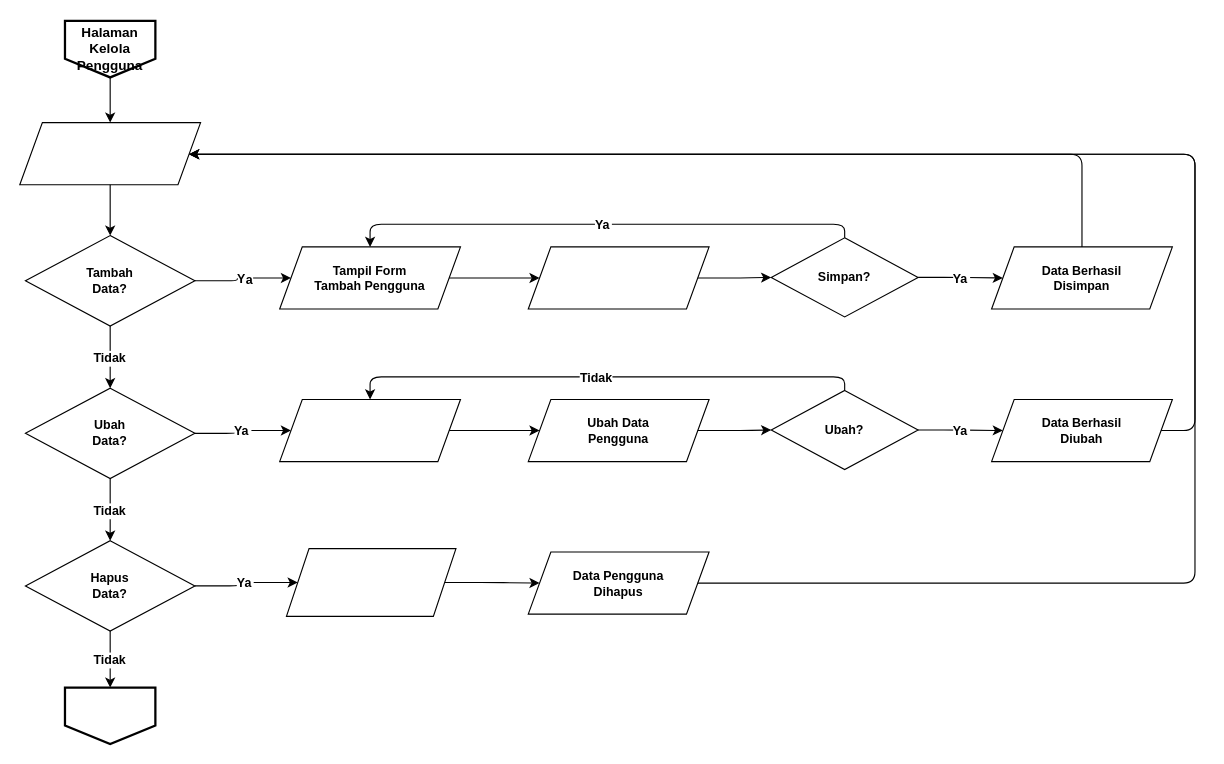
Some shapes in this 1224 by 764 pixel diagram are drawn without their labels. The shapes that lost their labels are listed below. From the top down, each one's box as (x1, y1, x2, y2) in pixels, then its label:
(19, 121, 201, 185): Tampil Data Pengguna
(527, 246, 709, 309): Input Data Pengguna
(279, 398, 460, 462): Tampil Form Ubah Pengguna
(285, 547, 456, 616): Tampil Pesan Konfirmasi Hapus
(63, 686, 156, 745): Dashboard
